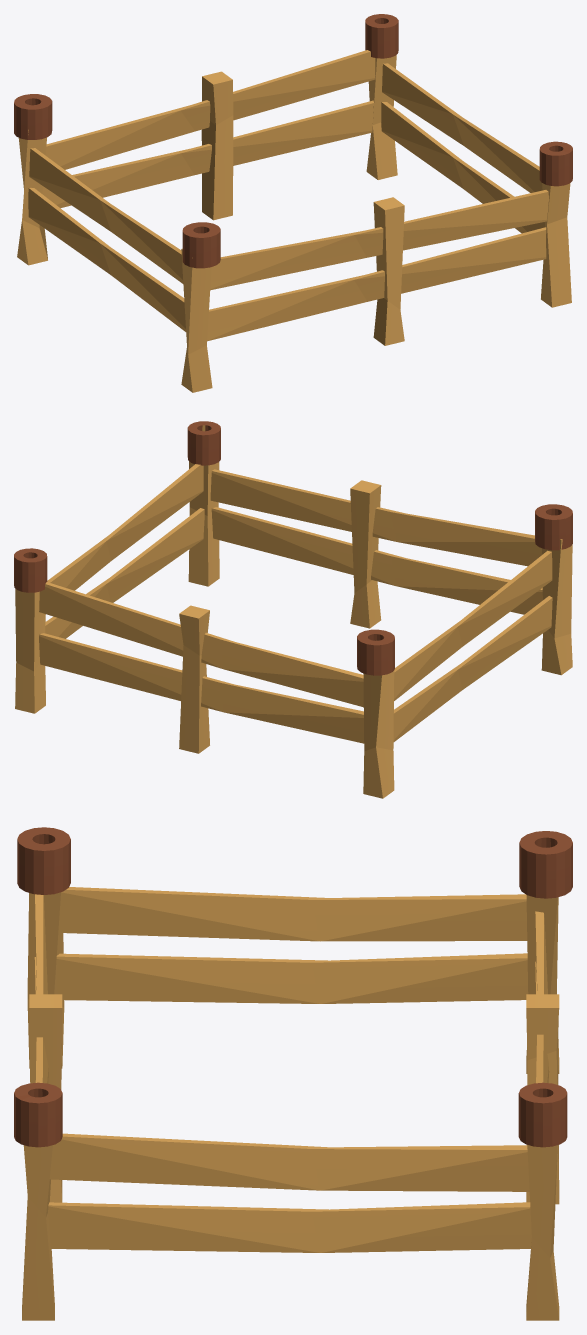
Rendered from Square fence.fbx.
3 views of the same model, one above another, from view 1: azimuth 30°, elevation 25°; view 2: azimuth 150°, elevation 25°; view 3: azimuth 270°, elevation 25° (orthographic). The views are drawn at different scales.
Visible parts, largest first — view 1: Square fence; view 2: Square fence; view 3: Square fence.
Boxes of the visible parts, <box> form: Square fence: <box>14,14,572,392</box>; Square fence: <box>14,421,572,798</box>; Square fence: <box>14,827,572,1320</box>.
Bounding box in the file's own units: 317 × 123 × 276.
